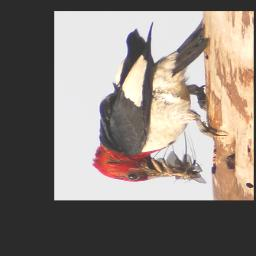Woodpecker: (93, 20, 227, 182)
